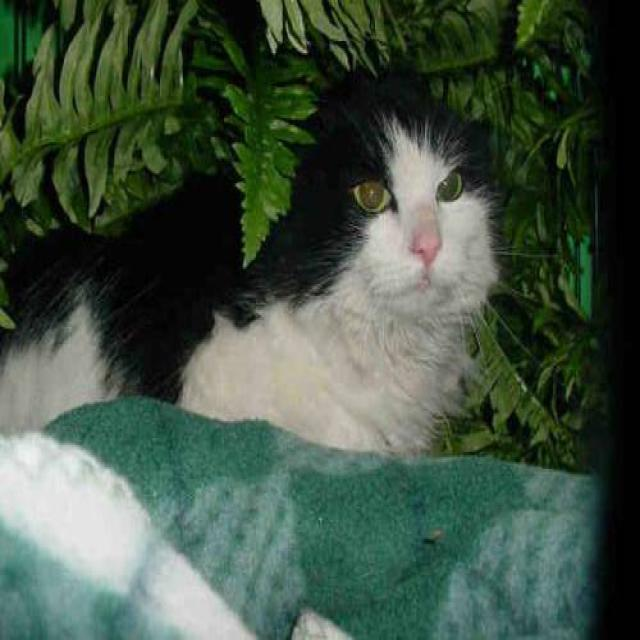cat: (0, 65, 507, 459)
